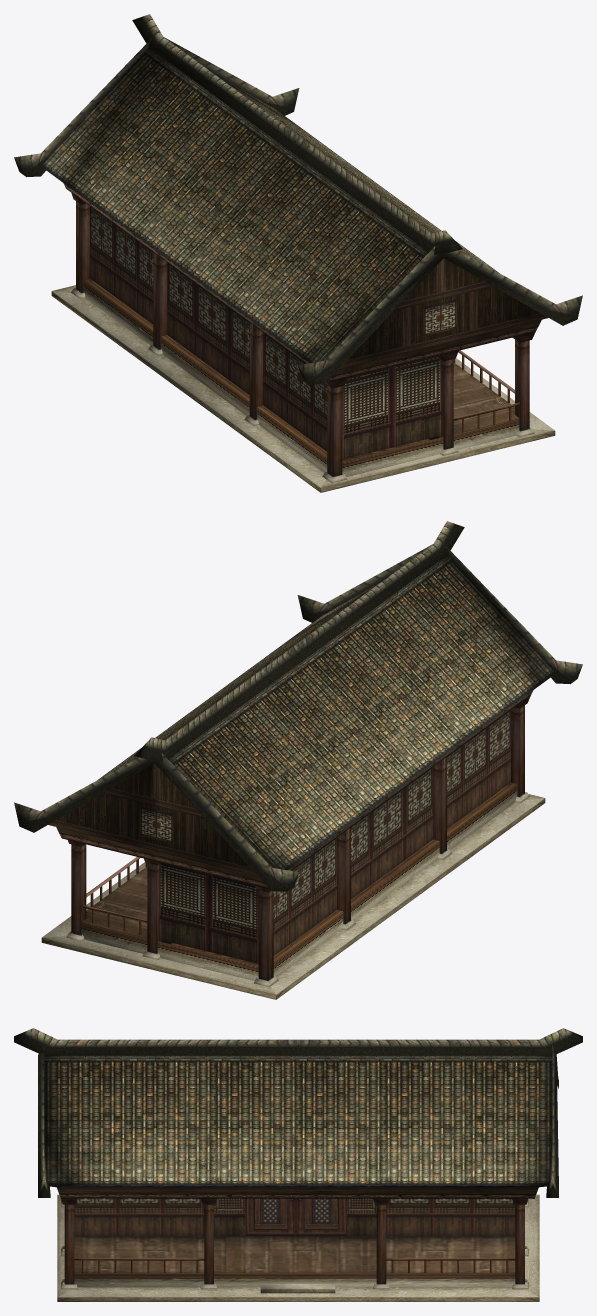
The model's file is b1-033-guesthouse-02_lod_01.fbx.
3 renders of one model, top to bottom at view 1: azimuth 30°, elevation 25°; view 2: azimuth 150°, elevation 25°; view 3: azimuth 270°, elevation 25°, orthographic. The views are drawn at different scales.
Parts seen in each view (by area): view 1: b1-033-guesthouse-01, b1-033-guesthouse-02; view 2: b1-033-guesthouse-01, b1-033-guesthouse-02; view 3: b1-033-guesthouse-01, b1-033-guesthouse-02.
Boxes of the visible parts, bbox=[...] form: b1-033-guesthouse-01: bbox=[14, 14, 582, 483]; b1-033-guesthouse-02: bbox=[51, 201, 555, 492]; b1-033-guesthouse-01: bbox=[14, 521, 582, 987]; b1-033-guesthouse-02: bbox=[41, 705, 545, 999]; b1-033-guesthouse-01: bbox=[14, 1028, 582, 1293]; b1-033-guesthouse-02: bbox=[57, 1194, 539, 1301].
Size of the model in its own units: 14.1 by 11.57 by 27.14.
